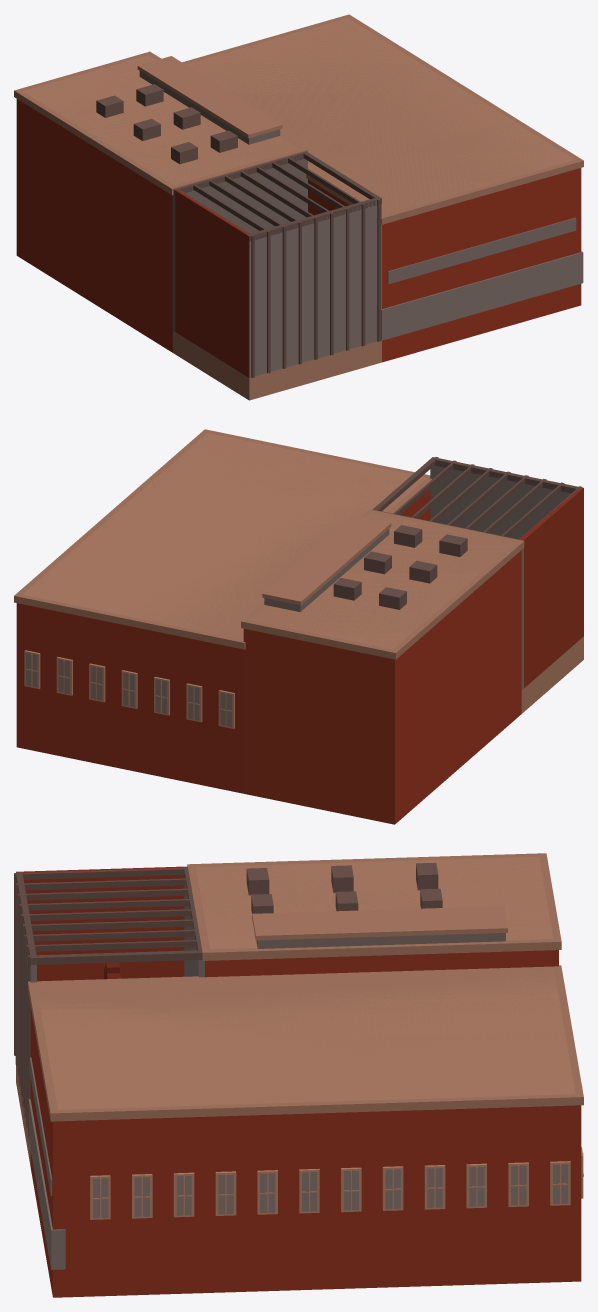
Rendered from american-civil-war-museum.glb.
3 renders of one model, top to bottom at view 1: azimuth 30°, elevation 25°; view 2: azimuth 150°, elevation 25°; view 3: azimuth 270°, elevation 25°, orthographic. The views are drawn at different scales.
Parts seen in each view (by area): view 1: east-wing; view 2: east-wing; view 3: east-wing.
Boxes of the visible parts, bbox=[...] form: east-wing: bbox=[14, 14, 583, 400]; east-wing: bbox=[14, 429, 583, 824]; east-wing: bbox=[14, 853, 583, 1297].
Size of the model in its own units: 43.43 by 19.5 by 44.57.
